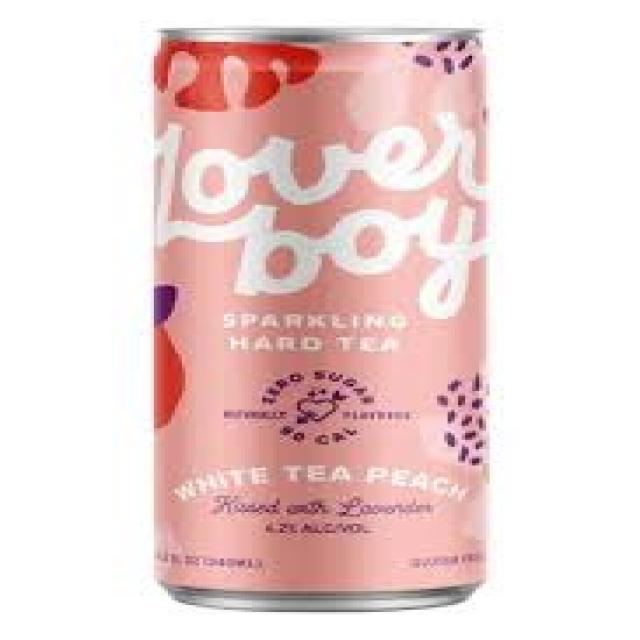Cans: (133, 16, 514, 622)
